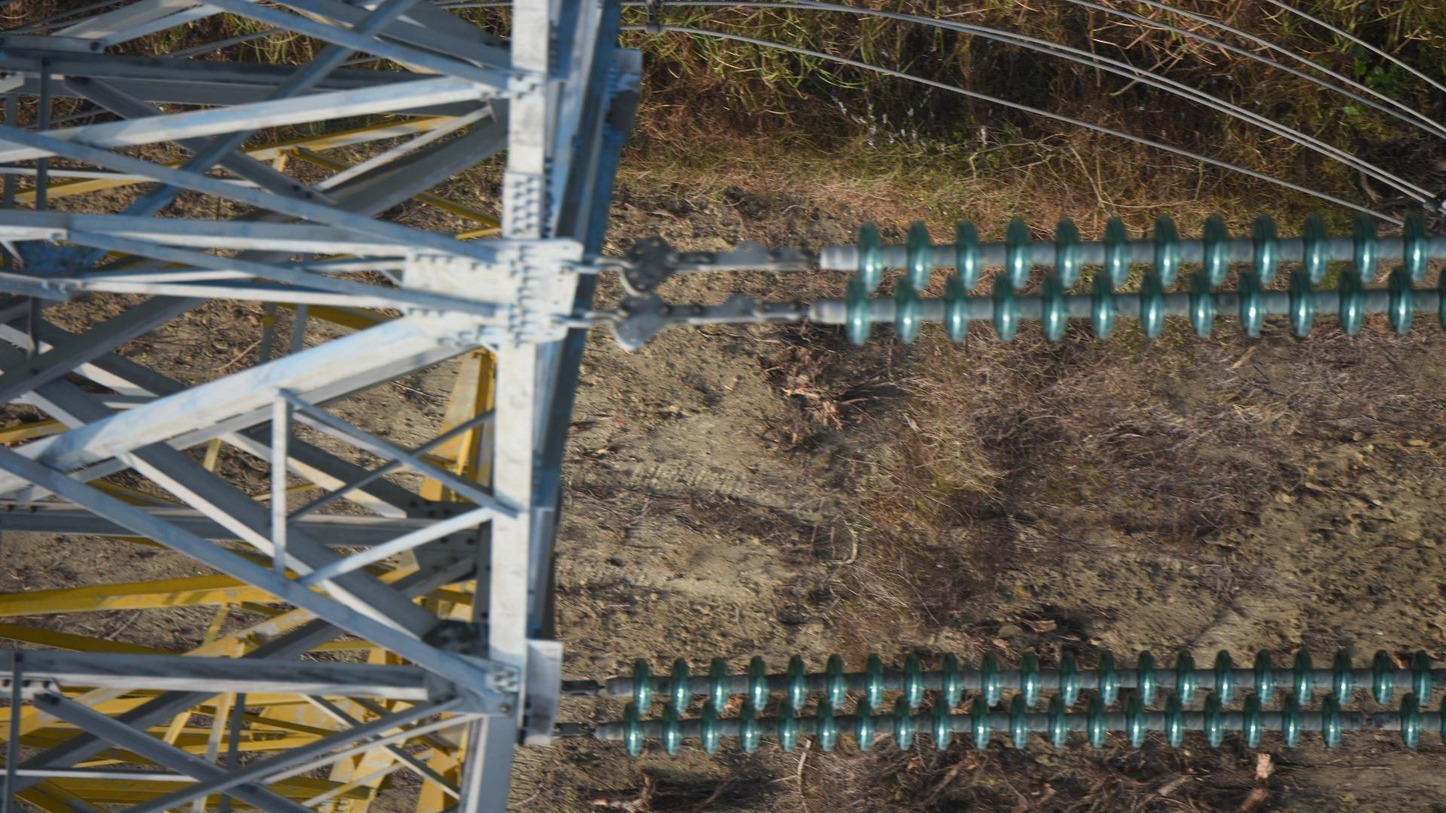insulator: (615, 639, 1446, 769), (834, 197, 1446, 353)
insulator_stringdrop: (1317, 690, 1426, 753)
